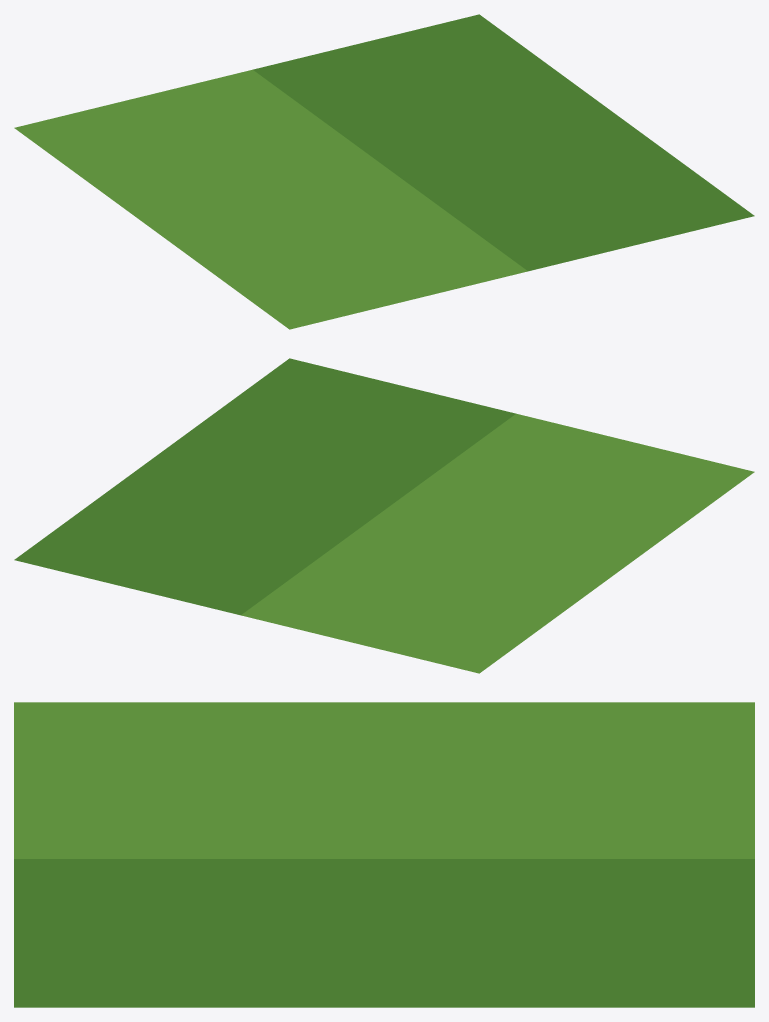
The model's file is pitch_f_1_5.glb.
3 views of the same model, one above another, from view 1: azimuth 30°, elevation 25°; view 2: azimuth 150°, elevation 25°; view 3: azimuth 270°, elevation 25° (orthographic). The views are drawn at different scales.
Parts seen in each view (by area): view 1: pitch_f_1_5; view 2: pitch_f_1_5; view 3: pitch_f_1_5.
Part boxes in pixels (x1,y1,x2,y2): pitch_f_1_5: (14, 14, 754, 329); pitch_f_1_5: (14, 358, 754, 673); pitch_f_1_5: (14, 702, 754, 1007).
Bounding box in the file's own units: 9.75 × 0 × 10.
